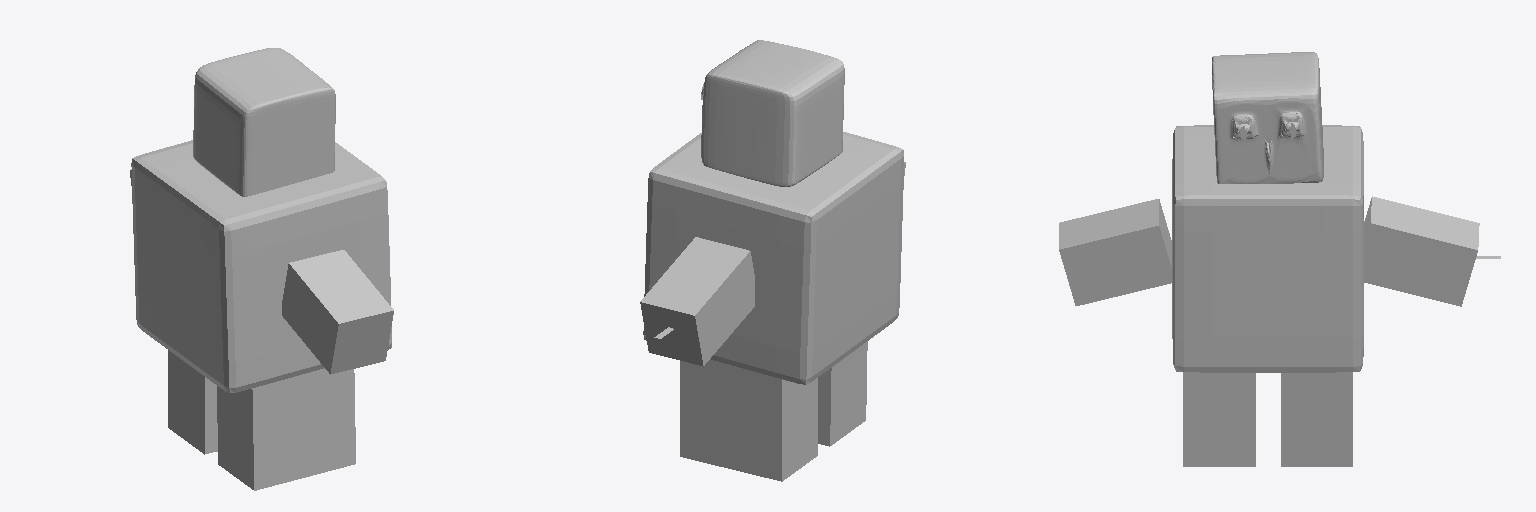
3 renders of one model, left to right at view 1: azimuth 30°, elevation 25°; view 2: azimuth 150°, elevation 25°; view 3: azimuth 270°, elevation 25°, orthographic.
Parts seen in each view (by area): view 1: Cube_Cube.001, Cube.001_Cube.002, CollisionLL_Cube.003, Cube.005_Cube.007, Cube.003_Cube.004; view 2: Cube_Cube.001, Cube.001_Cube.002, Cube.003_Cube.004, Cube.004_Cube.005, CollisionLL_Cube.003; view 3: Cube_Cube.001, Cube.001_Cube.002, Cube.004_Cube.005, Cube.005_Cube.007, CollisionLL_Cube.003, Cube.003_Cube.004.
Part boxes in pixels (bbox=[...]): Cube_Cube.001: bbox=[131, 140, 391, 392]; Cube.001_Cube.002: bbox=[193, 48, 335, 196]; CollisionLL_Cube.003: bbox=[217, 368, 355, 490]; Cube.005_Cube.007: bbox=[282, 250, 393, 374]; Cube.003_Cube.004: bbox=[168, 350, 217, 454]; Cube_Cube.001: bbox=[643, 132, 903, 384]; Cube.001_Cube.002: bbox=[701, 40, 844, 186]; Cube.003_Cube.004: bbox=[680, 359, 817, 481]; Cube.004_Cube.005: bbox=[640, 237, 754, 366]; CollisionLL_Cube.003: bbox=[818, 341, 867, 446]; Cube_Cube.001: bbox=[1172, 125, 1363, 372]; Cube.001_Cube.002: bbox=[1212, 52, 1323, 183]; Cube.004_Cube.005: bbox=[1364, 196, 1479, 306]; Cube.005_Cube.007: bbox=[1059, 199, 1171, 305]; CollisionLL_Cube.003: bbox=[1183, 372, 1255, 466]; Cube.003_Cube.004: bbox=[1281, 372, 1352, 466].
Bounding box in the file's own units: 1.5 × 3.15 × 3.36.